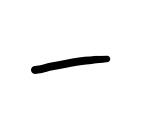minus: (31, 55, 109, 75)
